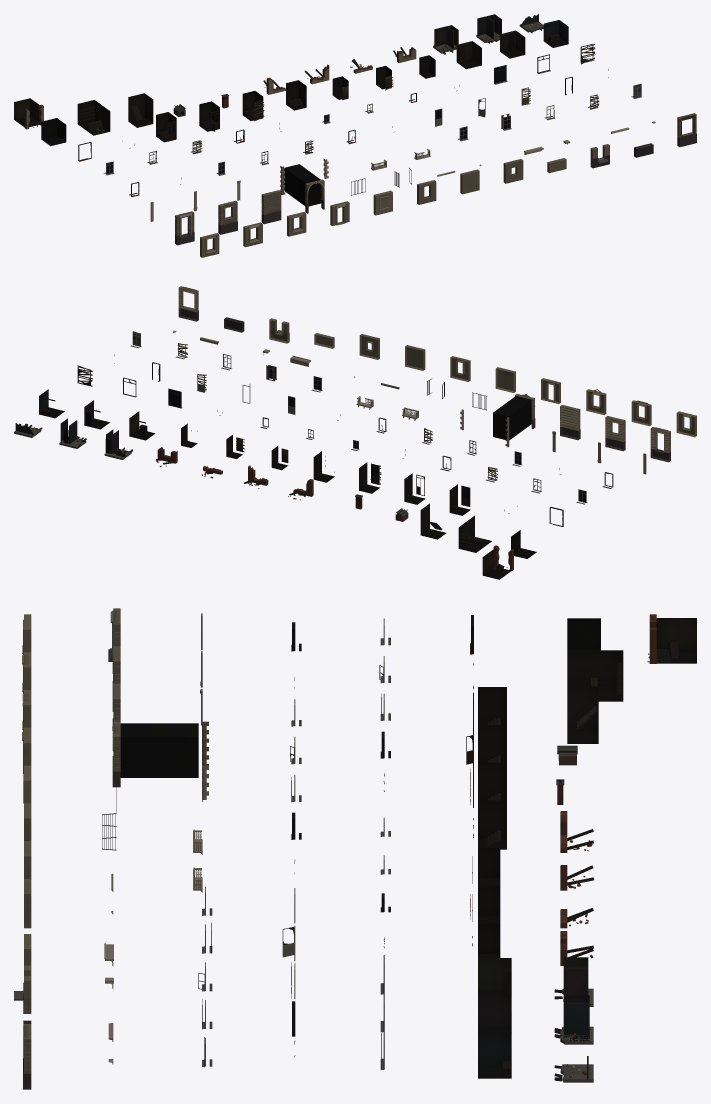
Rendered from kit_estalinka.glb.
3 renders of one model, top to bottom at view 1: azimuth 30°, elevation 25°; view 2: azimuth 150°, elevation 25°; view 3: azimuth 270°, elevation 25°, orthographic. The views are drawn at different scales.
Parts seen in each view (by area): view 1: bajo_arco, tienda_interior, escalera_e_interior, estuco_hueco, bajo_ciego, corte_e_b, habitacion_e_b, habitacion_e_a, habitacion_e_quemada, corte_e_a, habitacion_e_c, puerta_e_tapiada (+11 smaller); view 2: bajo_arco, estuco_hueco, bajo_ciego, tienda_interior, bajo_ventana, bajo_portal, bajo_escaparate, corte_e_b, puerta_e_cerrada, puerta_e_tapiada, escalera_e_interior, corte_e_a (+3 smaller); view 3: bajo_arco, tienda_interior, estuco_hueco, escalera_e_interior, habitacion_e_c, corte_e_b, puerta_e_arrancada, habitacion_e_a, habitacion_e_b, puerta_e_abierta, puerta_e_tapiada, corte_e_a (+5 smaller).
Part boxes in pixels (x1,y1,x2,y2): bajo_arco: (284,164,324,213); tienda_interior: (77,100,110,135); escalera_e_interior: (128,93,153,127); estuco_hueco: (14,98,43,129); bajo_ciego: (261,190,281,224); corte_e_b: (476,14,501,43); habitacion_e_b: (500,30,525,58); habitacion_e_a: (456,41,481,69); habitacion_e_quemada: (41,118,66,146); corte_e_a: (433,25,458,54); habitacion_e_c: (543,20,568,47); puerta_e_tapiada: (242,91,264,121); bajo_arco: (493,394,535,440); estuco_hueco: (482,545,513,579); bajo_ciego: (560,405,580,440); tienda_interior: (458,515,491,552); bajo_ventana: (605,416,625,451); bajo_portal: (650,427,670,462); bajo_escaparate: (178,286,198,321); corte_e_b: (59,418,86,448); puerta_e_cerrada: (449,484,470,515); puerta_e_tapiada: (359,462,381,493); escalera_e_interior: (420,503,446,539); corte_e_a: (104,429,132,459); bajo_arco: (112,721,198,787); tienda_interior: (567,650,623,701); estuco_hueco: (647,614,696,663); escalera_e_interior: (567,686,598,743); habitacion_e_c: (478,1033,511,1078); corte_e_b: (554,995,593,1044); puerta_e_arrancada: (473,800,506,849); habitacion_e_a: (478,958,511,995); habitacion_e_b: (478,996,511,1033); puerta_e_abierta: (466,725,506,767); puerta_e_tapiada: (470,762,506,807); corte_e_a: (554,957,593,1006).
Bounding box in the file's own units: 91.46 × 5.3 × 61.14.
